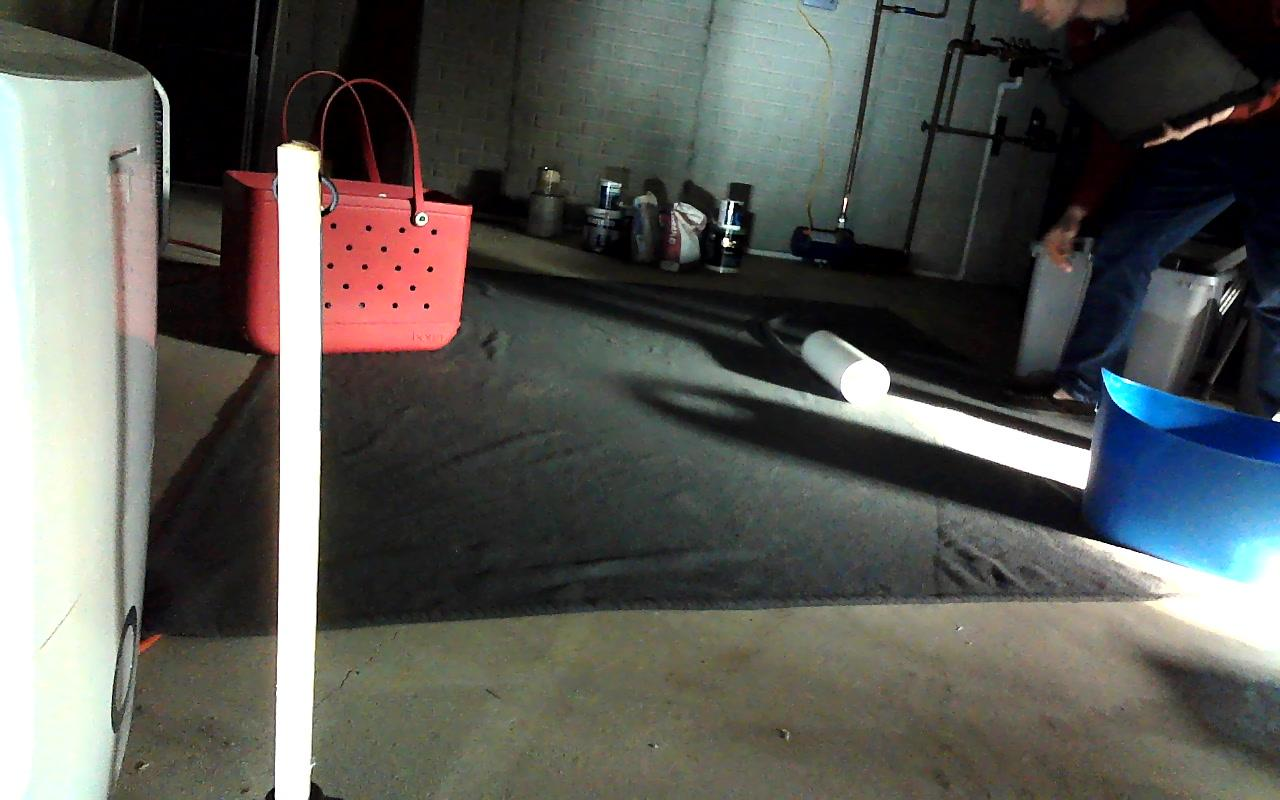coral: (802, 330, 889, 405)
